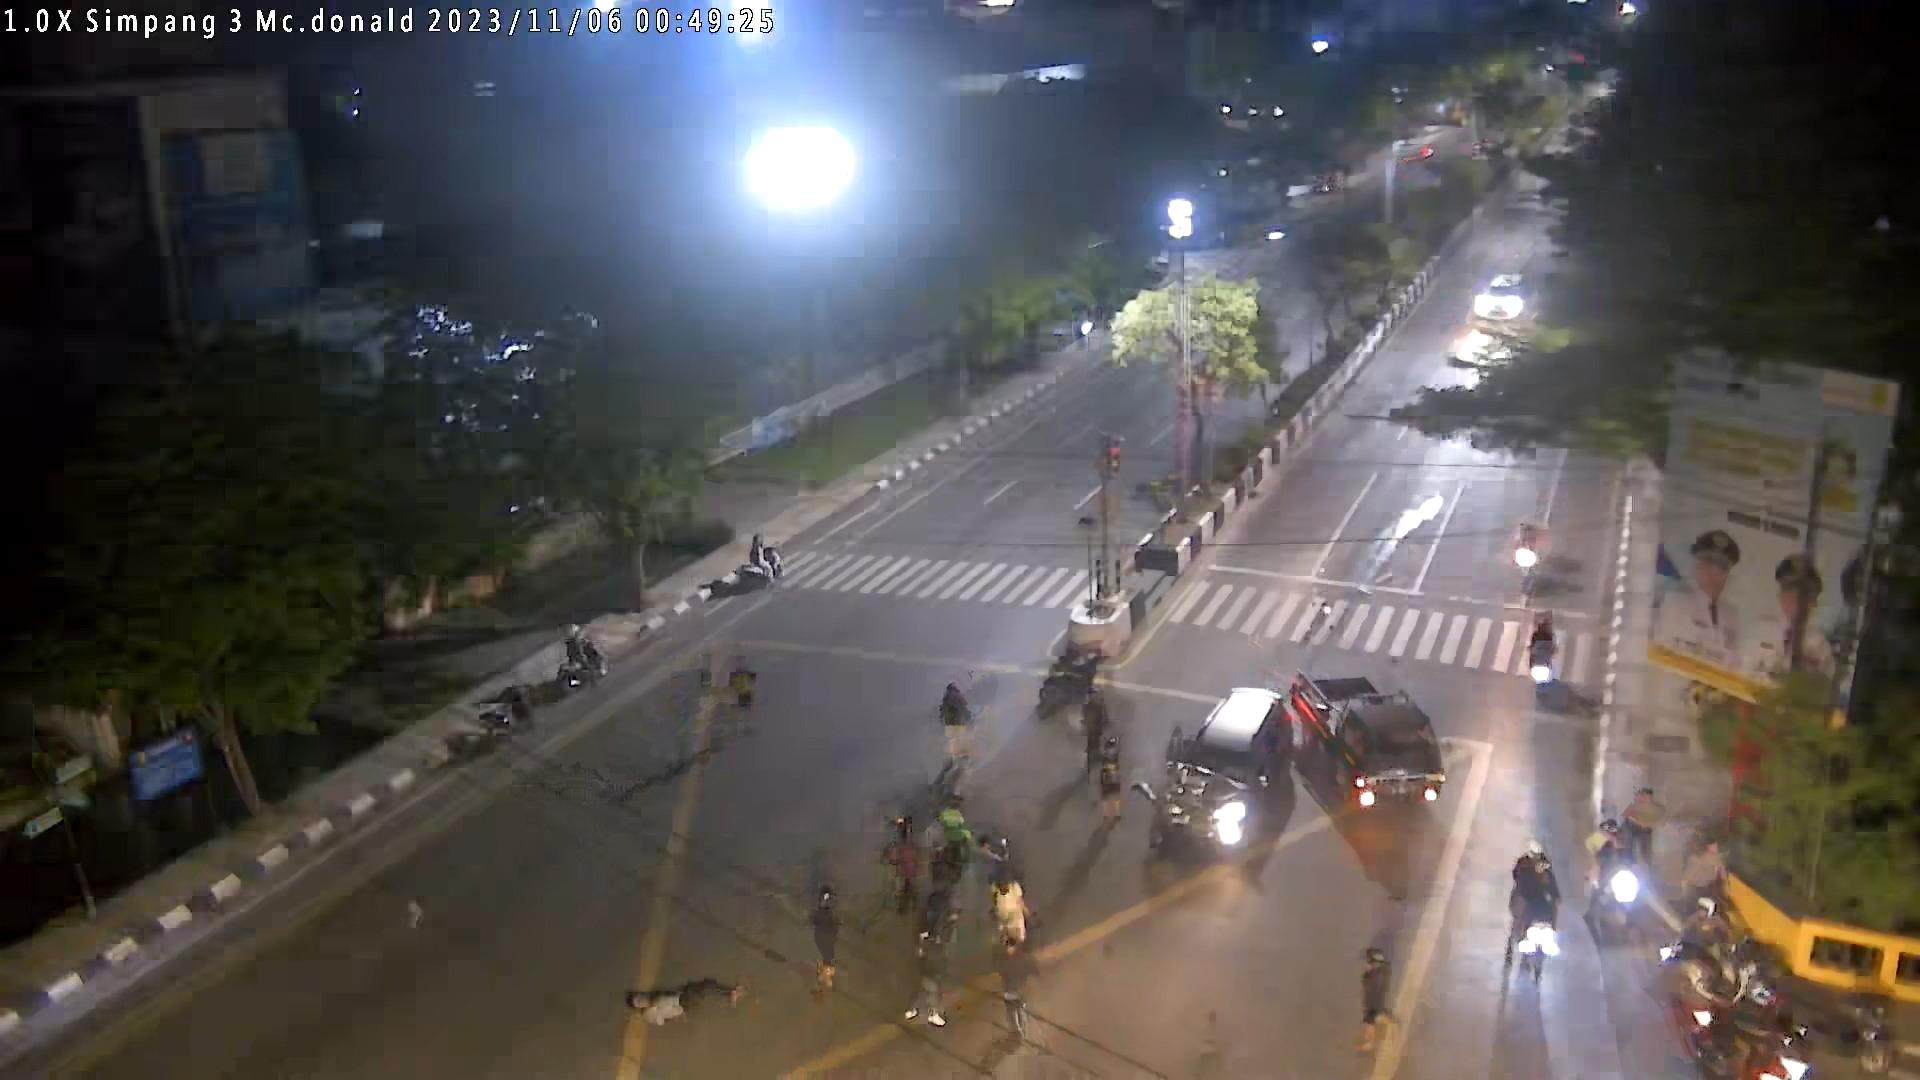accident: (622, 976, 748, 1025)
